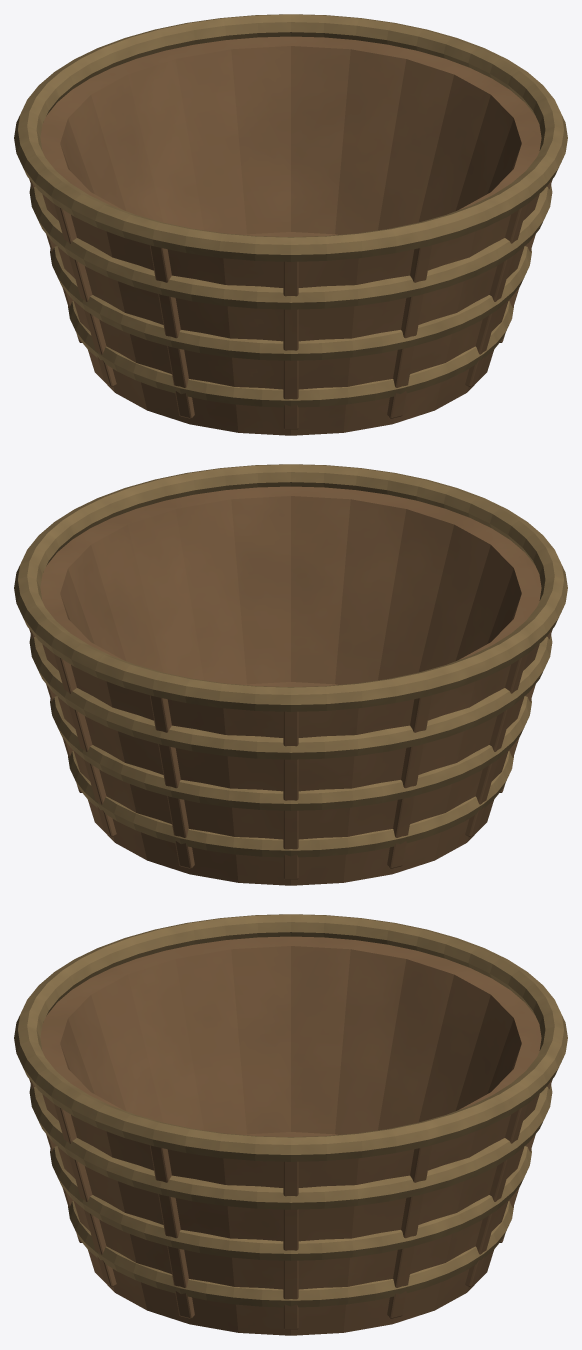
File: Basket_Empty.fbx
3 renders of one model, top to bottom at view 1: azimuth 30°, elevation 25°; view 2: azimuth 150°, elevation 25°; view 3: azimuth 270°, elevation 25°, orthographic.
Parts seen in each view (by area): view 1: Basket_Empty.001; view 2: Basket_Empty.001; view 3: Basket_Empty.001.
Part boxes in pixels (bbox=[...]): Basket_Empty.001: bbox=[14, 14, 567, 435]; Basket_Empty.001: bbox=[14, 464, 567, 885]; Basket_Empty.001: bbox=[14, 914, 567, 1335].
Size of the model in its own units: 0.924 by 0.412 by 0.924.
